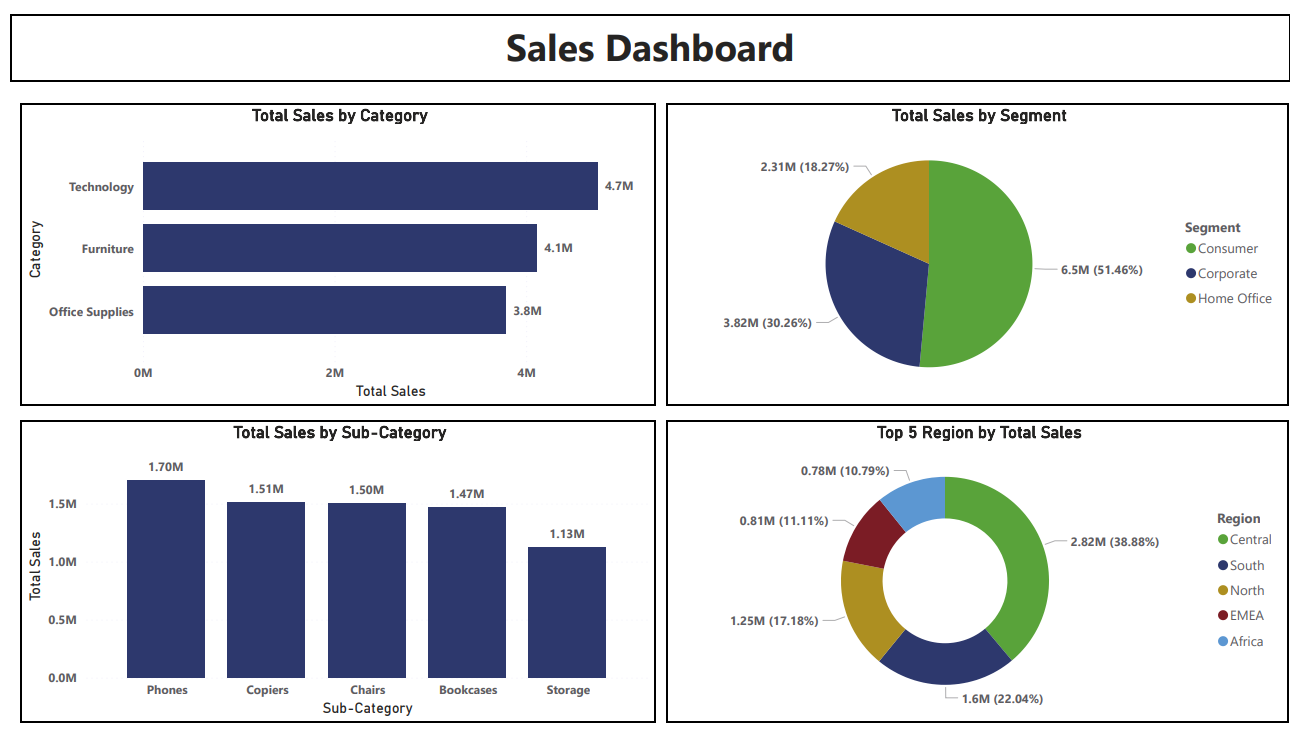

This screenshot's page, from the dashboard's own definition file:
{"tool":"powerbi","page":{"name":"Sales","canvas":[1280,720],"ordinal":1},"visuals":[{"type":"textbox","box":[0,0,1280.8,68],"z":0},{"type":"clusteredBarChart","title":"Total Sales by Category","fields":{"Category":["Global_Superstore2.Category"],"Y":["Sum(Global_Superstore2.Sales)"]},"box":[9.7,89.1,636.4,302.8],"z":1000},{"type":"columnChart","title":"Total Sales by Sub-Category","fields":{"Category":["Global_Superstore2.Sub-Category"],"Y":["Sum(Global_Superstore2.Sales)"]},"box":[9.7,406.4,636.4,302.8],"z":2000},{"type":"pieChart","title":"Total Sales by Segment","fields":{"Category":["Global_Superstore2.Segment"],"Y":["Sum(Global_Superstore2.Sales)"]},"box":[655.8,89.1,623.4,302.8],"z":3000},{"type":"donutChart","title":"Top 5 Region by Total Sales","fields":{"Category":["Global_Superstore2.Region"],"Y":["Sum(Global_Superstore2.Sales)"]},"box":[655.8,406.4,623.4,302.8],"z":4000}]}

Visuals, with their boxes in screenshot pixels (x1, y1, x2, y2), scaled from the page's 1280x720 canvas onto the 1302x735 screenshot:
textbox: (left=0, top=0, right=1301, bottom=69)
"Total Sales by Category" clusteredBarChart: (left=10, top=91, right=657, bottom=400)
"Total Sales by Sub-Category" columnChart: (left=10, top=415, right=657, bottom=724)
"Total Sales by Segment" pieChart: (left=667, top=91, right=1301, bottom=400)
"Top 5 Region by Total Sales" donutChart: (left=667, top=415, right=1301, bottom=724)
